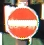No entry: (5, 5, 39, 40)
